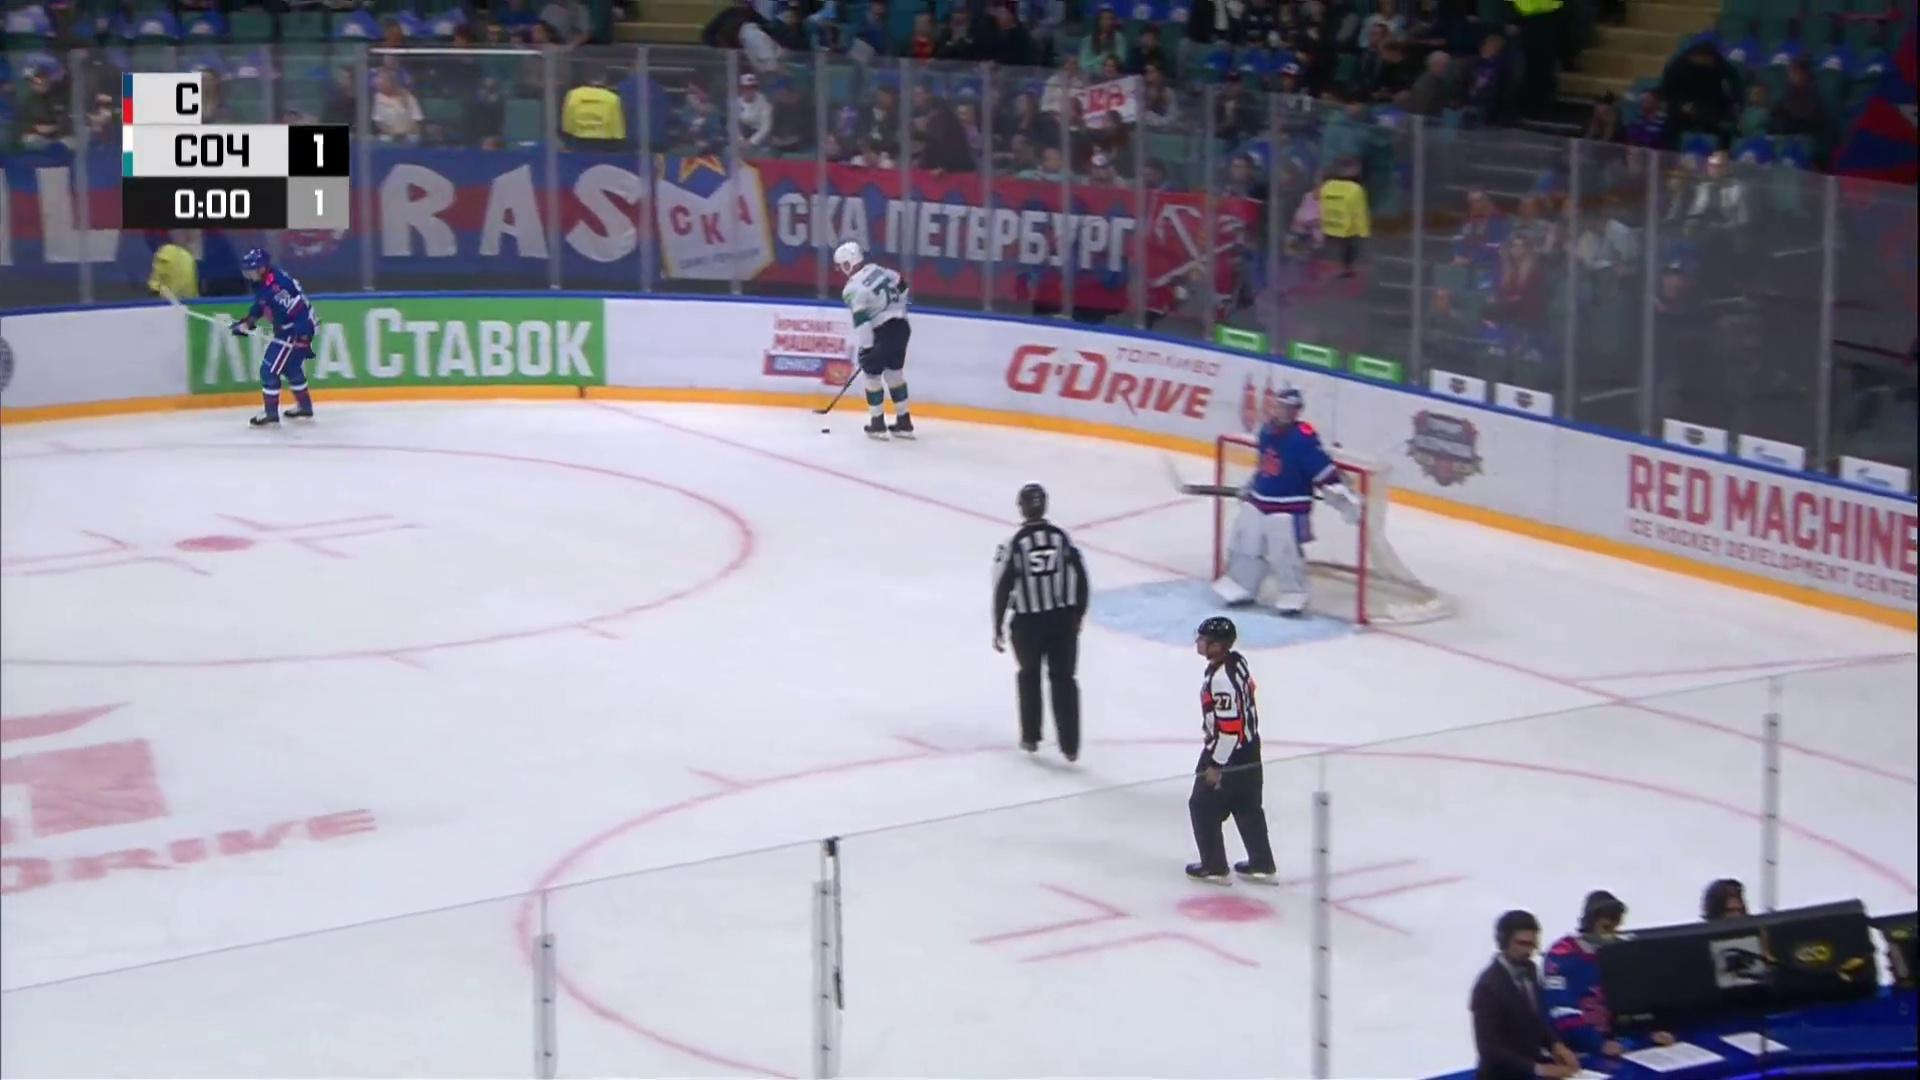ball: (822, 427, 829, 434)
